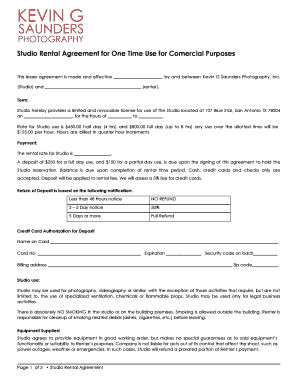textline: (50, 234, 280, 247), (47, 260, 231, 268), (39, 245, 143, 259), (45, 81, 140, 91), (115, 68, 161, 82), (74, 145, 113, 158), (23, 112, 73, 120), (165, 247, 203, 257), (253, 260, 280, 270), (253, 247, 277, 258), (109, 111, 132, 120), (140, 114, 165, 120)
